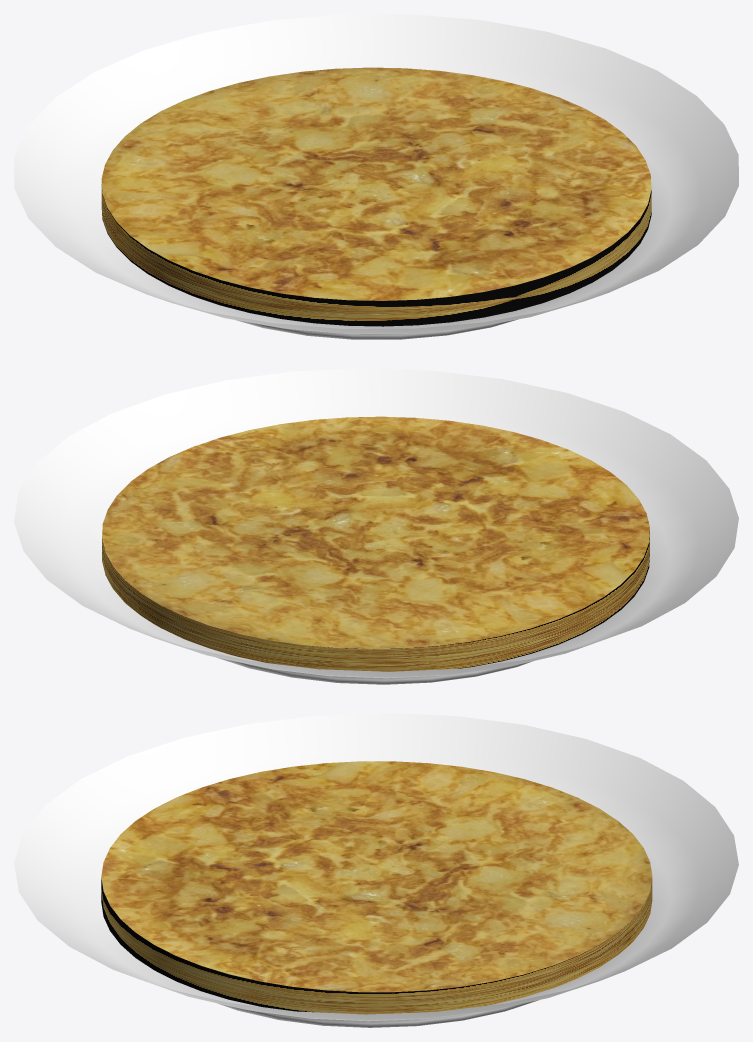
The model's file is tortilla.glb.
The picture shows the model from 3 angles, top to bottom: view 1: azimuth 30°, elevation 25°; view 2: azimuth 150°, elevation 25°; view 3: azimuth 270°, elevation 25°; orthographic projection.
Visible parts, largest first — view 1: Cylinder, Plate; view 2: Cylinder, Plate; view 3: Cylinder, Plate.
Boxes of the visible parts, x1,y1,x2,y2 form: Cylinder: (101,67,651,326); Plate: (14,14,738,339); Cylinder: (102,416,649,671); Plate: (14,368,738,684); Cylinder: (101,761,652,1014); Plate: (14,713,738,1027).
Bounding box in the file's own units: 9.49 × 1.02 × 9.49.
2 materials, 1 textured.
